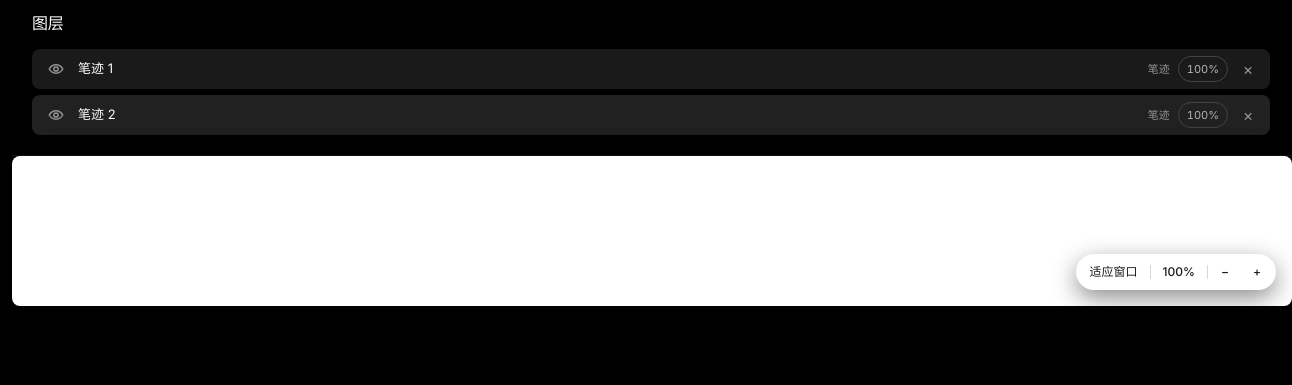
Test: 删除恢复条 › 删除失败时就地显示原因与重试，行不消失，重试成功后出现恢复条
The width and height of the screenshot is (1292, 385).
Click the button named "删除 笔迹 2" at (1248, 115), box [1236,103,1260,127]
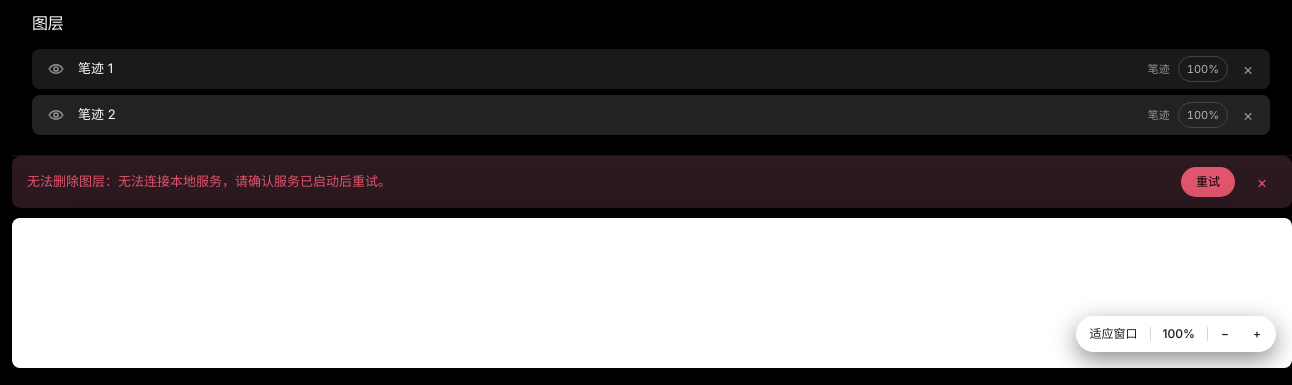
Expected: the message shows "无法删除图层", [27,173,391,189]
Expected: the message shows "无法连接本地服务", [27,173,391,189]
Expected: the button "重试" is shown
Click the button "重试" at (1208, 182), box [1181,167,1235,197]
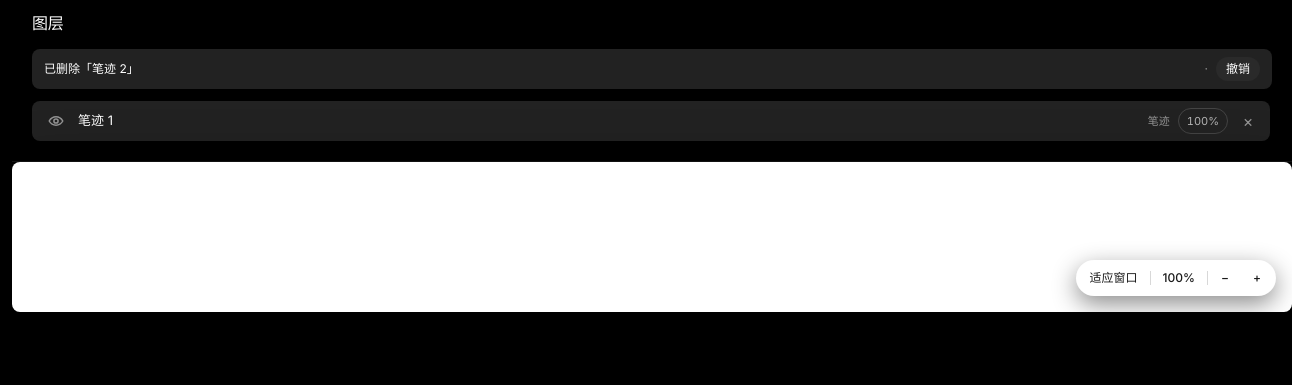
Expected: the message shows "已删除「笔迹 2」", [32,49,1272,89]
